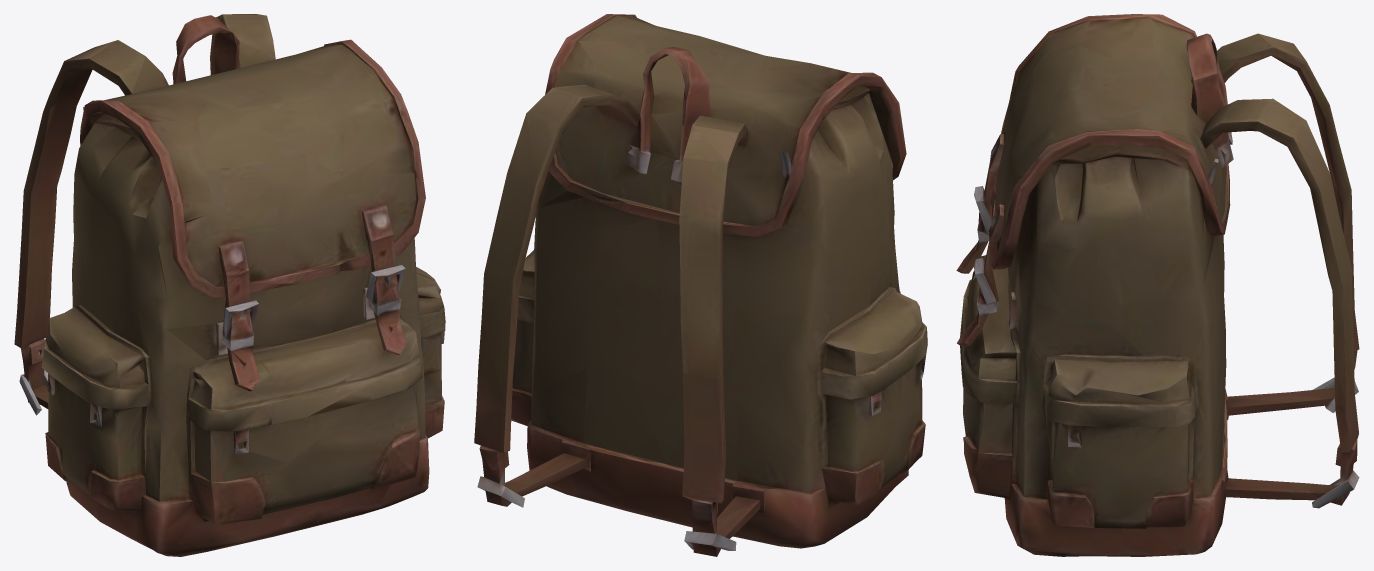
The model's file is backpack_shkolnyy_idle.glb.
The picture shows the model from 3 angles, left to right: view 1: azimuth 30°, elevation 25°; view 2: azimuth 150°, elevation 25°; view 3: azimuth 270°, elevation 25°; orthographic projection. The views are drawn at different scales.
Parts seen in each view (by area): view 1: tripo_node_6b06e0b5-ebb7-4851-922a-f66293b6254a; view 2: tripo_node_6b06e0b5-ebb7-4851-922a-f66293b6254a; view 3: tripo_node_6b06e0b5-ebb7-4851-922a-f66293b6254a.
Part boxes in pixels (x1,y1,x2,y2): tripo_node_6b06e0b5-ebb7-4851-922a-f66293b6254a: [14, 14, 445, 556]; tripo_node_6b06e0b5-ebb7-4851-922a-f66293b6254a: [474, 14, 927, 556]; tripo_node_6b06e0b5-ebb7-4851-922a-f66293b6254a: [956, 14, 1359, 556].
Bounding box in the file's own units: 0.3777 × 0.4496 × 0.3608.
Materials: 1 (1 with a texture image).
